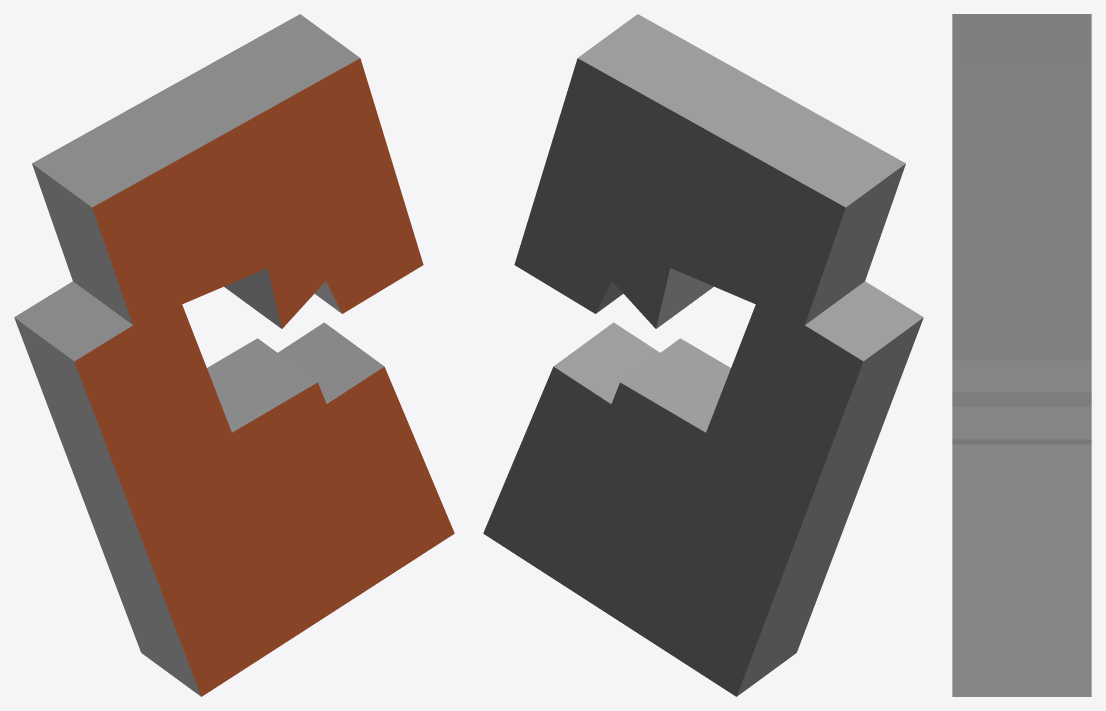
Rendered from construction_1300_assumed_A_Casa_h6m.obj.
The picture shows the model from 3 angles, left to right: view 1: azimuth 30°, elevation 25°; view 2: azimuth 150°, elevation 25°; view 3: azimuth 270°, elevation 25°; orthographic projection. The views are drawn at different scales.
Visible parts, largest first — view 1: construction_1300_assumed_A_Casa; view 2: construction_1300_assumed_A_Casa; view 3: construction_1300_assumed_A_Casa.
Part boxes in pixels (left/top/right/bottom): construction_1300_assumed_A_Casa: left=14, top=14, right=454, bottom=696; construction_1300_assumed_A_Casa: left=483, top=14, right=923, bottom=696; construction_1300_assumed_A_Casa: left=952, top=14, right=1091, bottom=696.
Size of the model in its own units: 21.87 by 32.96 by 6.
